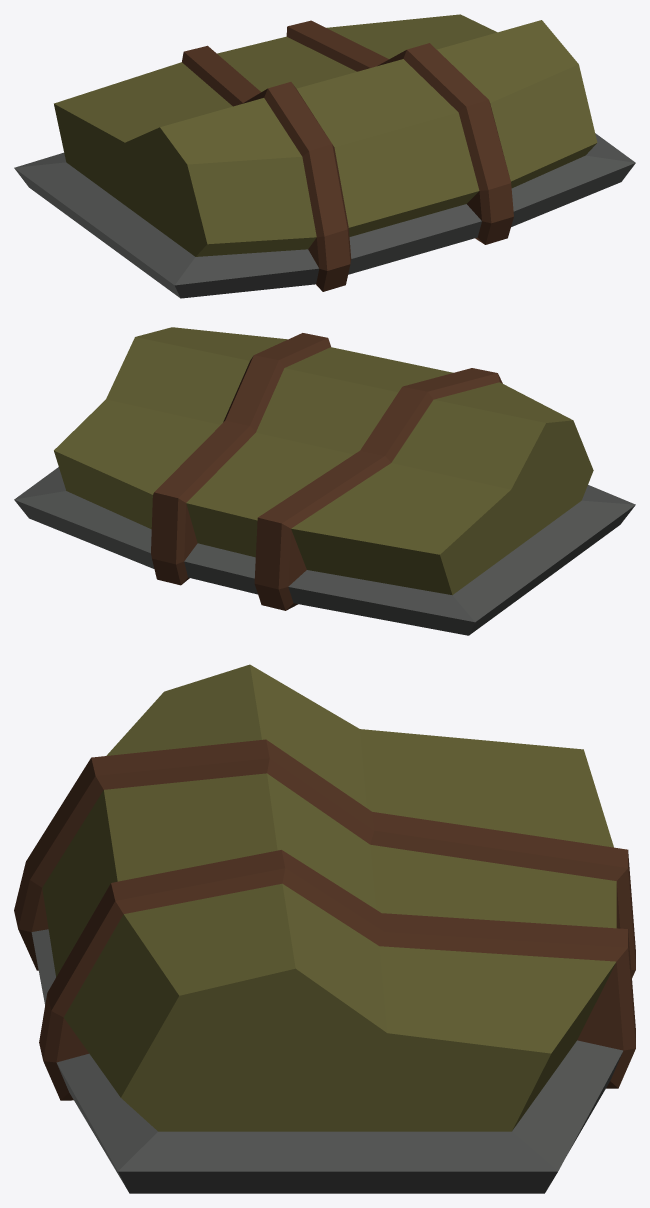
File: LPWarPack_Wrapping.fbx
3 renders of one model, top to bottom at view 1: azimuth 30°, elevation 25°; view 2: azimuth 150°, elevation 25°; view 3: azimuth 270°, elevation 25°, orthographic. The views are drawn at different scales.
Parts seen in each view (by area): view 1: Wrapping; view 2: Wrapping; view 3: Wrapping.
Boxes of the visible parts, x1=… form: Wrapping: x1=14, y1=14, x2=635, y2=298; Wrapping: x1=14, y1=327, x2=635, y2=635; Wrapping: x1=14, y1=664, x2=635, y2=1193.
Bounding box in the file's own units: 84.37 × 24.73 × 61.3.
